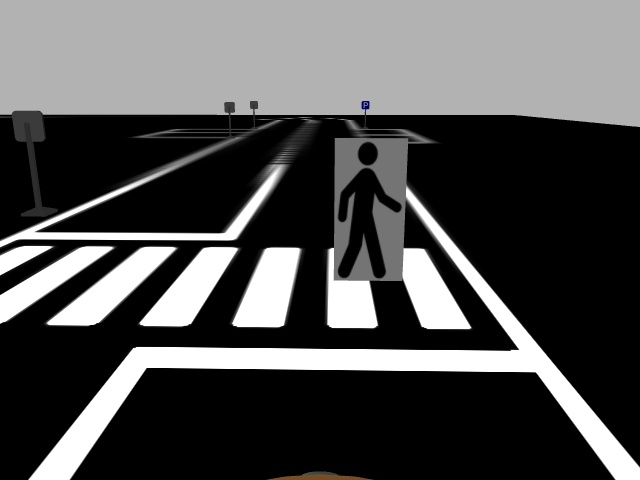parking: (360, 99, 372, 111)
pedestrian: (332, 135, 405, 283)
